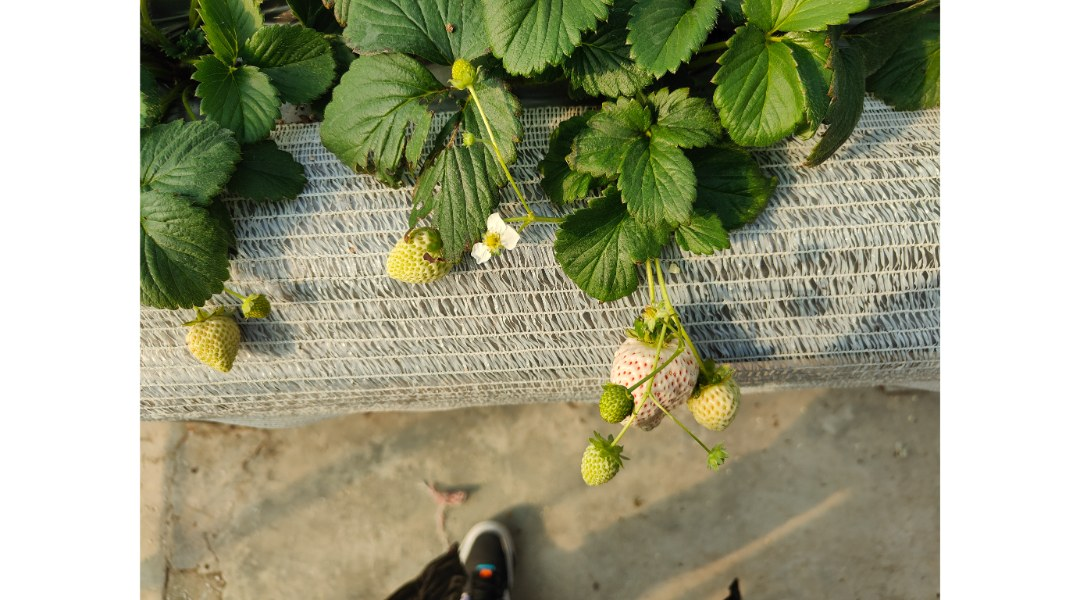berry: (607, 327, 701, 433), (377, 228, 453, 282), (180, 318, 242, 374), (694, 370, 740, 430), (579, 432, 623, 491), (596, 384, 629, 423), (238, 286, 273, 321), (441, 57, 475, 88), (708, 441, 731, 475)
flower: (470, 211, 522, 273)
strain: (471, 97, 534, 205), (657, 255, 677, 307), (642, 261, 657, 302)
